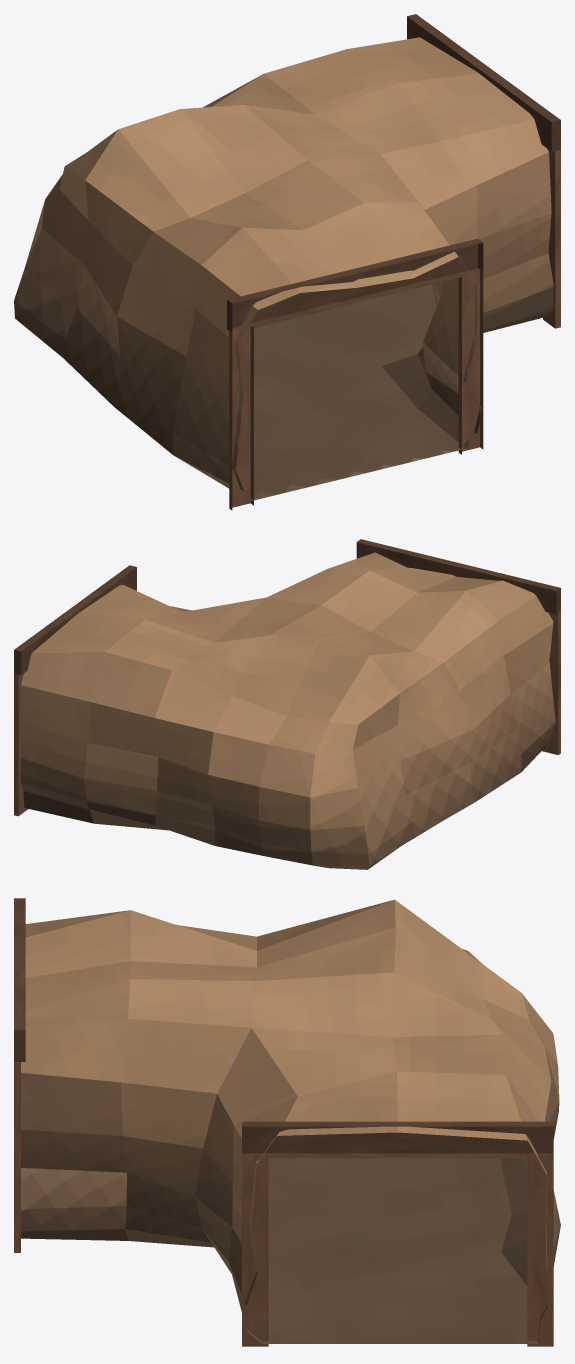
The model's file is SM_LJunction.fbx.
3 views of the same model, one above another, from view 1: azimuth 30°, elevation 25°; view 2: azimuth 150°, elevation 25°; view 3: azimuth 270°, elevation 25° (orthographic). The views are drawn at different scales.
Visible parts, largest first — view 1: L Junction, L Junction.002, L Junction.003, Support -y, Support x; view 2: L Junction, L Junction.002, Support -y, Support x; view 3: L Junction.002, L Junction, L Junction.003, Support x, Support -y.
Part boxes in pixels (left/top/right/bottom): L Junction: left=14, top=75, right=553, bottom=500; L Junction.002: left=65, top=37, right=533, bottom=309; L Junction.003: left=249, top=284, right=465, bottom=501; Support -y: left=227, top=238, right=483, bottom=510; Support x: left=407, top=14, right=560, bottom=328; L Junction: left=20, top=596, right=555, bottom=869; L Junction.002: left=32, top=552, right=535, bottom=724; Support -y: left=356, top=539, right=560, bottom=754; Support x: left=14, top=565, right=136, bottom=816; L Junction.002: left=25, top=899, right=527, bottom=1140; L Junction: left=21, top=965, right=560, bottom=1343; L Junction.003: left=261, top=1158, right=538, bottom=1343; Support x: left=242, top=1121, right=553, bottom=1346; Support -y: left=14, top=898, right=25, bottom=1252.
Size of the model in its own units: 711 by 373 by 712.
